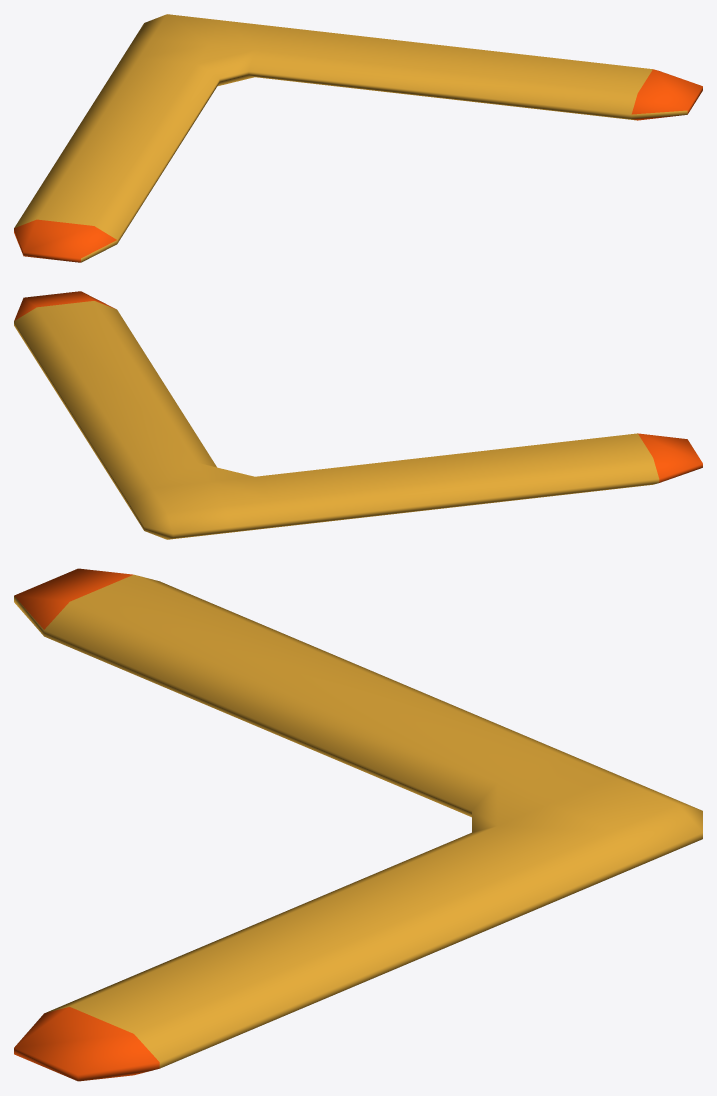
File: boomerang.fbx
3 views of the same model, one above another, from view 1: azimuth 30°, elevation 25°; view 2: azimuth 150°, elevation 25°; view 3: azimuth 270°, elevation 25° (orthographic). The views are drawn at different scales.
Parts seen in each view (by area): view 1: Boomerang; view 2: Boomerang; view 3: Boomerang.
Part boxes in pixels (x1,y1,x2,y2): Boomerang: (14, 14, 702, 262); Boomerang: (14, 291, 702, 539); Boomerang: (14, 568, 702, 1081).
Bounding box in the file's own units: 702 × 26.79 × 404.
